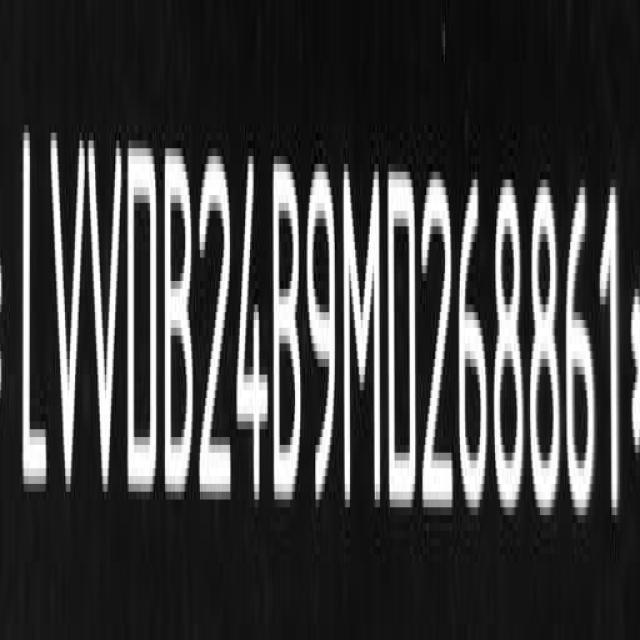1: (603, 176, 622, 526)
2: (201, 156, 235, 514), (422, 170, 456, 524)
4: (234, 151, 268, 512)
6: (456, 173, 488, 522), (566, 179, 597, 527)
8: (528, 178, 562, 517), (494, 174, 526, 516)
9: (305, 162, 339, 516)
B: (163, 142, 196, 504), (271, 159, 304, 514)
D: (127, 135, 161, 503), (388, 168, 420, 514)
L: (18, 124, 50, 502)
M: (340, 156, 385, 509)
V: (88, 126, 126, 506), (47, 126, 85, 504)
